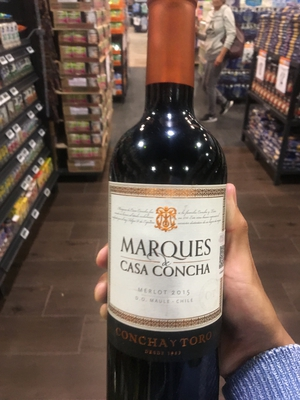marques de casa concha merlot: (102, 21, 241, 396)
